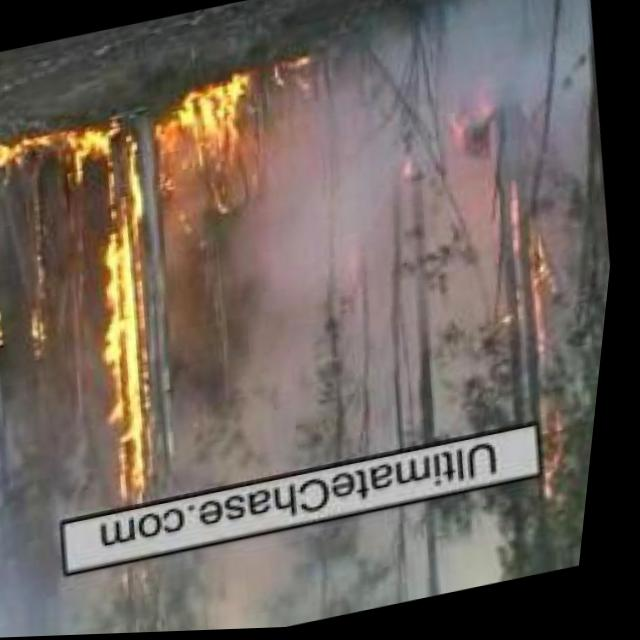Fire: (65, 174, 184, 501), (0, 75, 271, 210), (511, 233, 578, 360), (530, 406, 586, 511), (20, 291, 65, 362), (0, 293, 15, 348)
